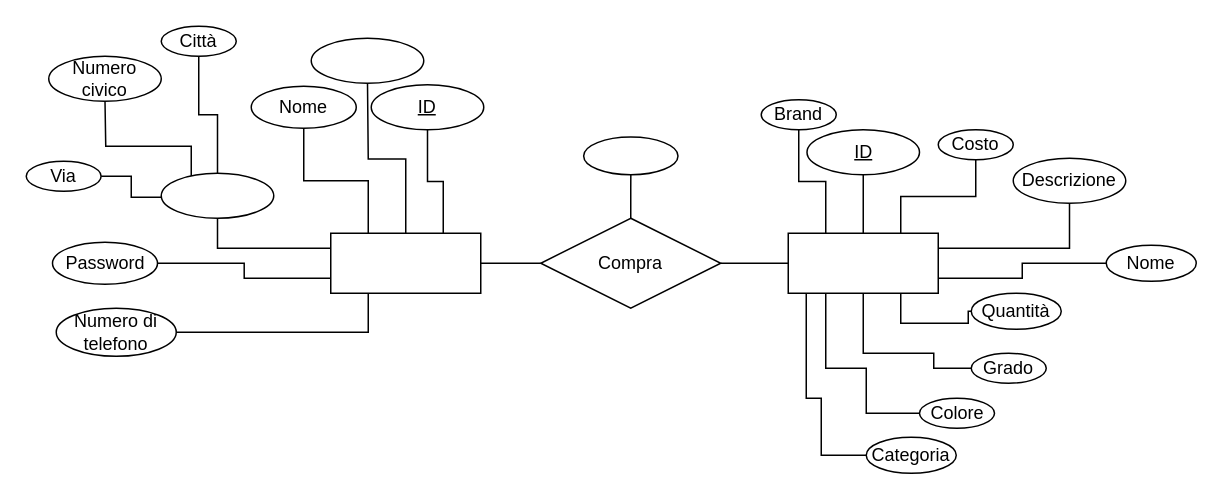
Image size: 1223x500. Some labels were removed from this diagram. The shapes that lost their labels are listed below. From the top down, each one's centre as x and y in pixels, then its label:
At (x=367, y=60): "Email".
At (x=630, y=155): "Data".
At (x=217, y=195): "Indirizzo".
At (x=405, y=262): "Utente".
At (x=862, y=262): "Prodotto".
